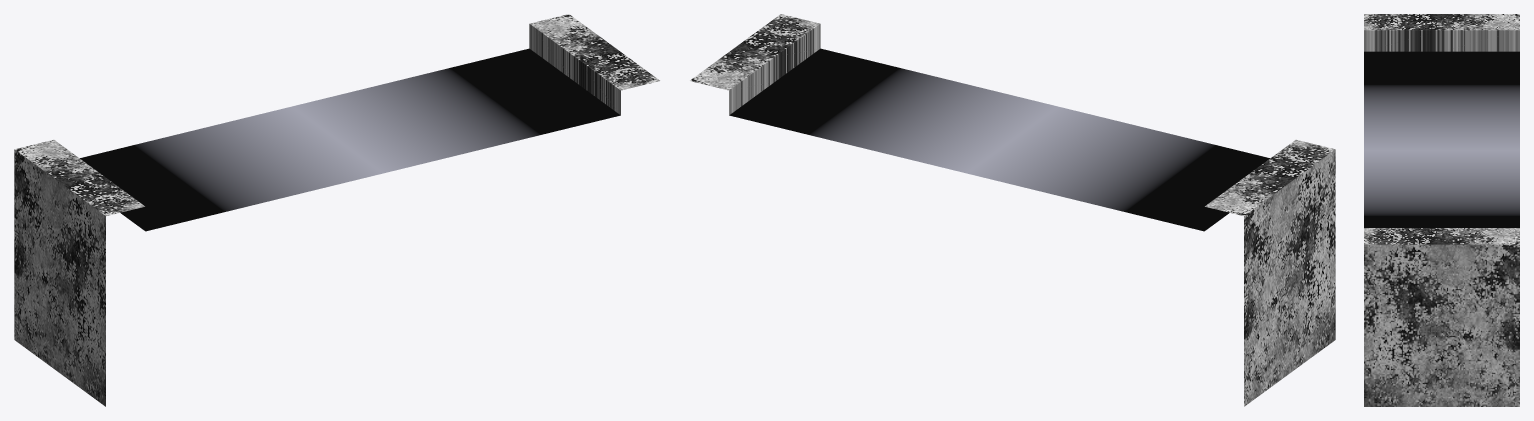
File: bridge-section.glb
3 renders of one model, left to right at view 1: azimuth 30°, elevation 25°; view 2: azimuth 150°, elevation 25°; view 3: azimuth 270°, elevation 25°, orthographic. The views are drawn at different scales.
Parts seen in each view (by area): view 1: bridge section; view 2: bridge section; view 3: bridge section.
Boxes of the visible parts, x1,y1,x2,y2 form: bridge section: (14,14,659,406); bridge section: (690,14,1335,406); bridge section: (1364,14,1519,406).
Size of the model in its own units: 7 by 2.3 by 2.
2 materials, 1 textured.
